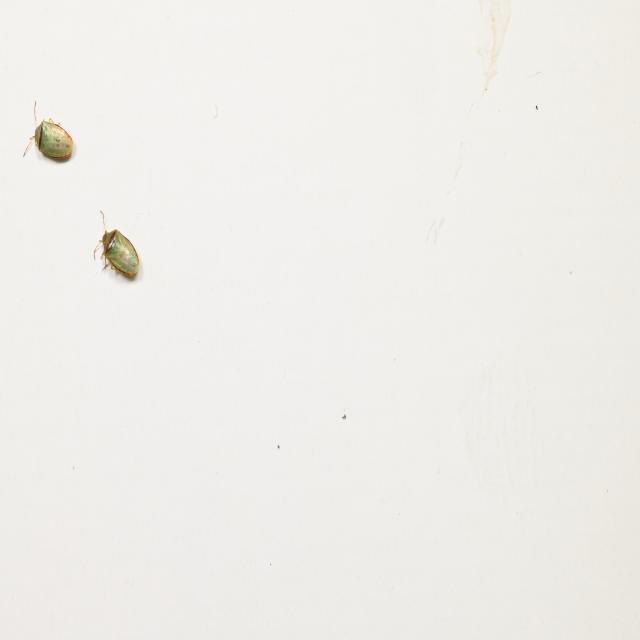stinkbug: (23, 100, 73, 165), (92, 209, 139, 277)
